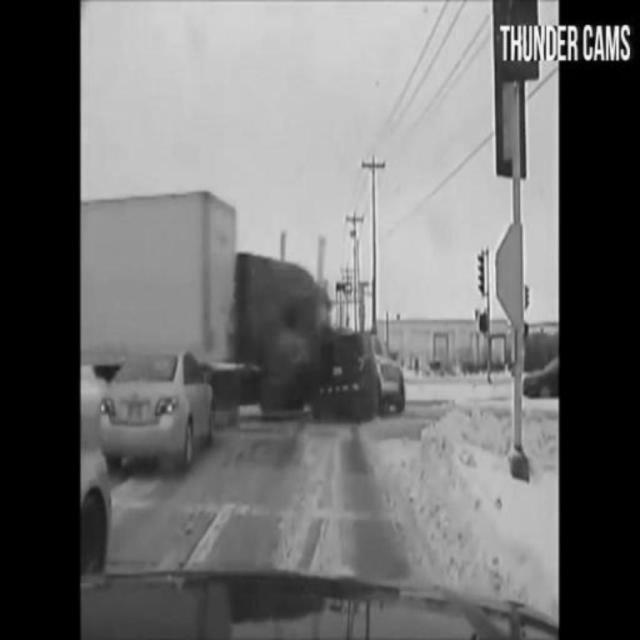accident: (76, 200, 410, 422)
vehicle: (103, 355, 211, 468)
